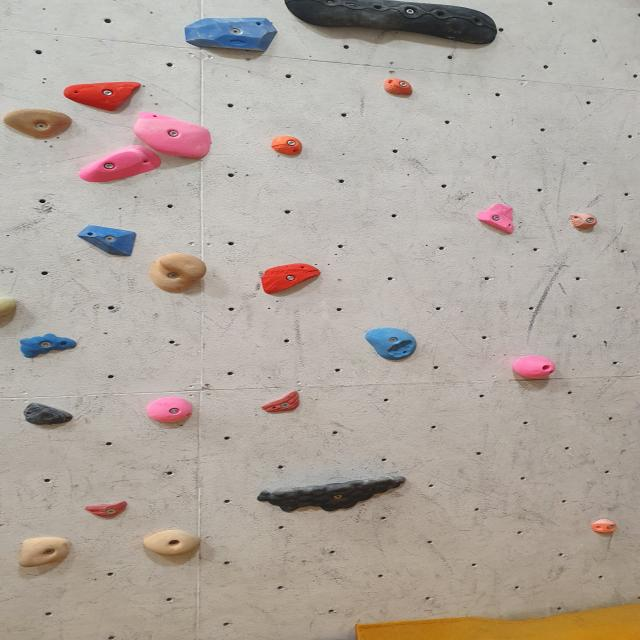Crimp: (188, 17, 283, 52), (83, 147, 156, 185), (67, 80, 140, 109), (259, 263, 313, 294), (474, 204, 521, 233), (22, 403, 72, 425), (86, 501, 132, 517), (266, 392, 300, 413)
Jug: (255, 475, 409, 515), (134, 112, 220, 160), (1, 108, 76, 141), (146, 253, 201, 290), (15, 535, 72, 567), (142, 529, 200, 557)
Pinch: (512, 354, 559, 382), (150, 398, 191, 423), (267, 135, 307, 157), (382, 76, 418, 97), (568, 211, 598, 231), (0, 296, 20, 323), (592, 517, 614, 536)
Sloper: (286, 0, 502, 46), (365, 326, 422, 360), (84, 224, 134, 256), (20, 334, 72, 356)
